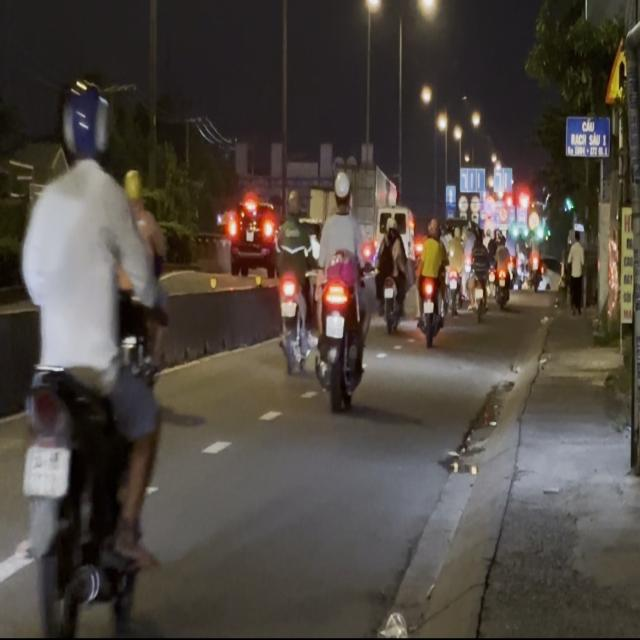helmet: (58, 80, 110, 169), (332, 170, 350, 210)
licenseplate: (10, 77, 172, 634), (314, 169, 371, 409)
nohelmet: (22, 445, 70, 495), (325, 315, 344, 337)
